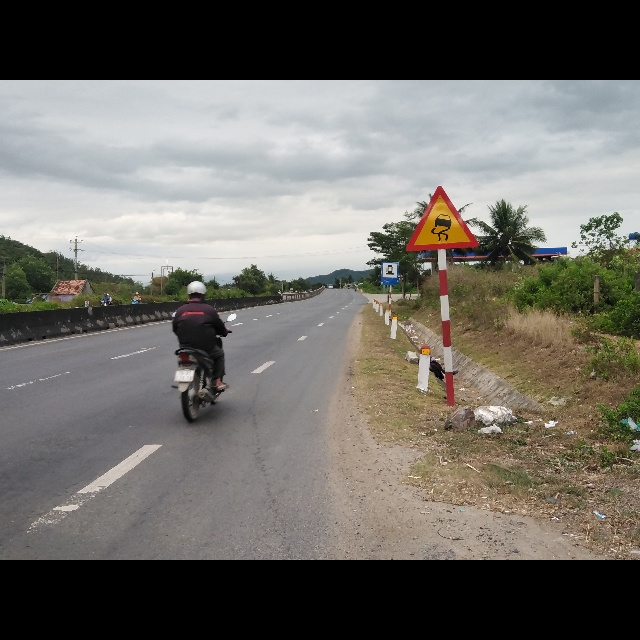Đường trơn trượt: (406, 185, 480, 252)
